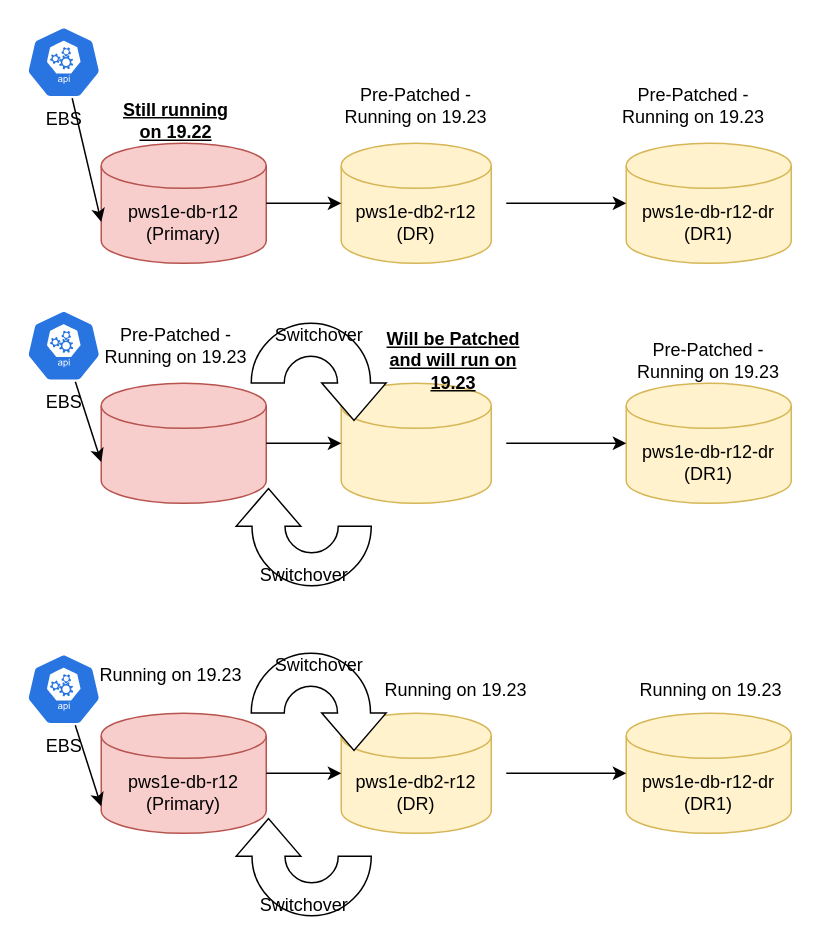
This 818x942 diagram has some shape labels left out. The shapes that lost their labels are listed below. From the top down, each one's box as (x1, y1, x2, y2) in pixels, then its label:
(100, 382, 266, 503): pws1e-db2-r12 (Primary)
(340, 382, 491, 503): pws1e-db-r12 (New DR)
